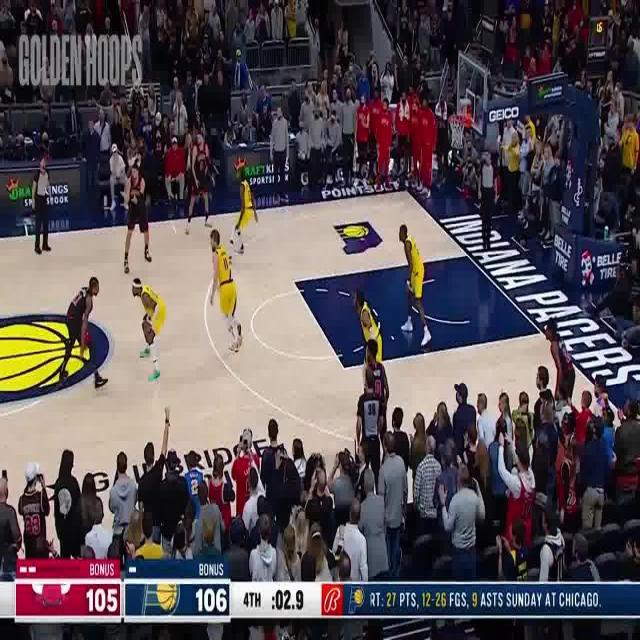ball-handler: (58, 262, 108, 390)
